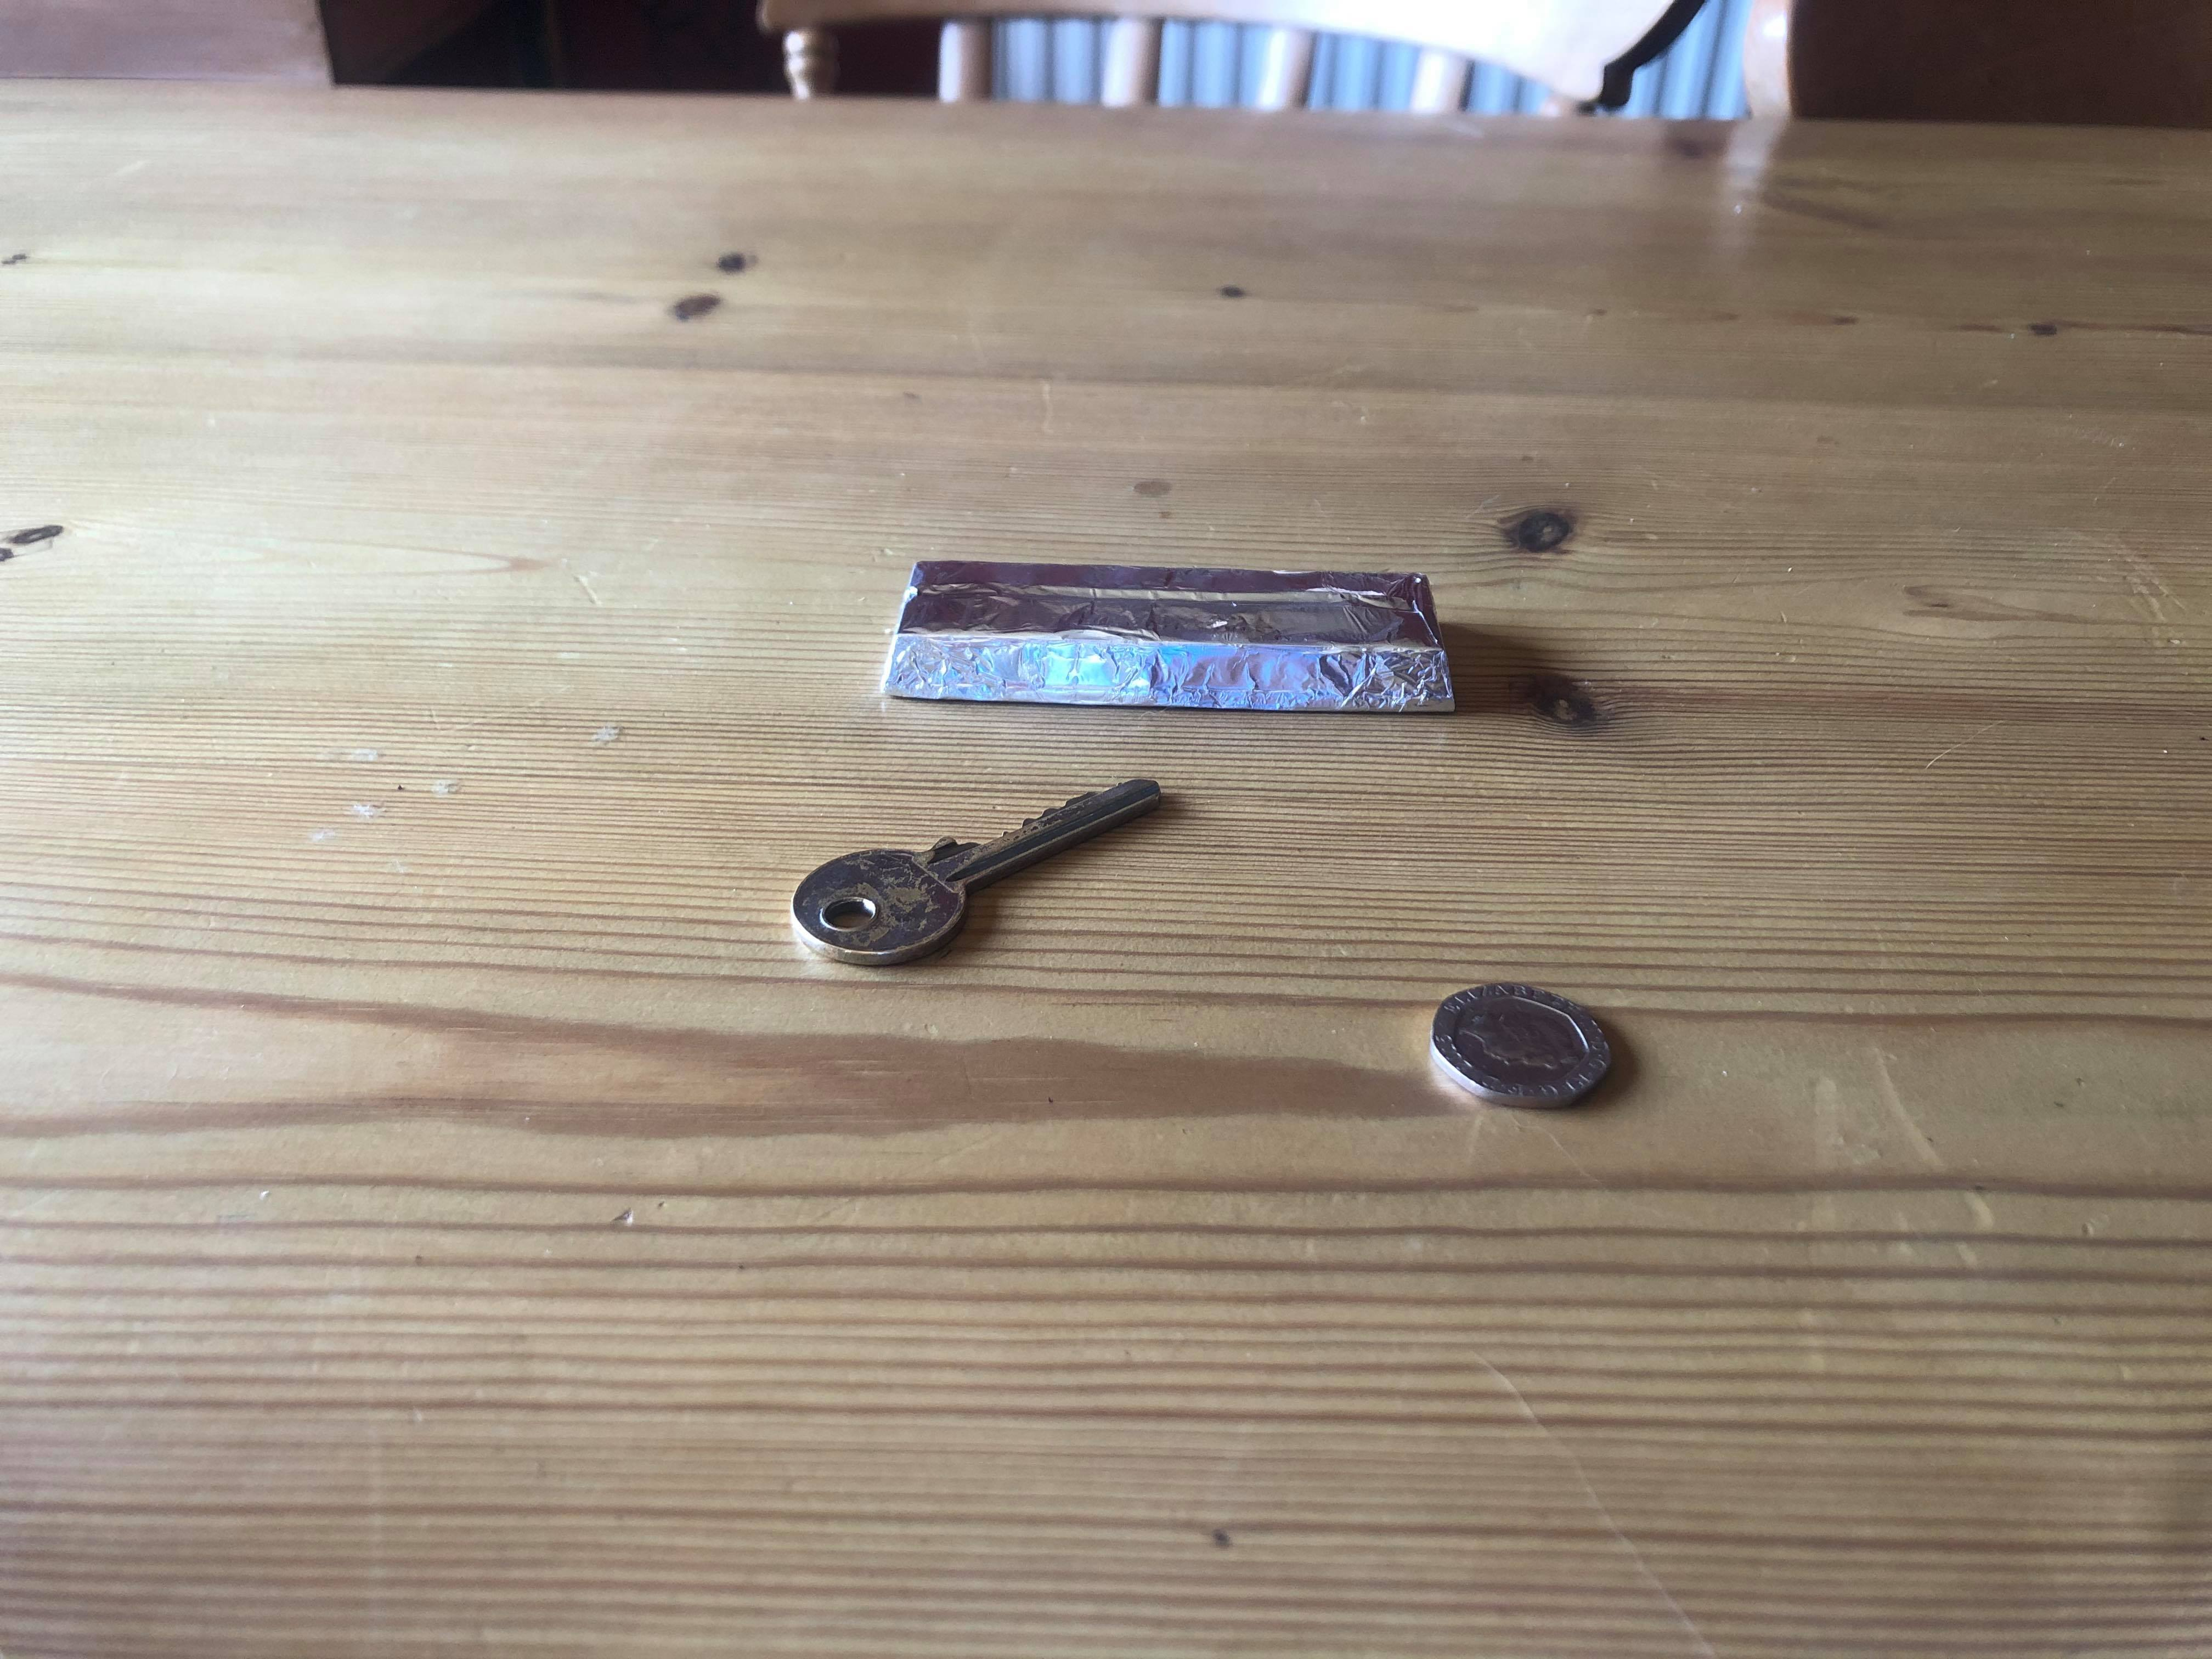Coin: (1416, 974, 1616, 1108)
Foil: (876, 544, 1460, 739)
Key: (779, 774, 1181, 990)
